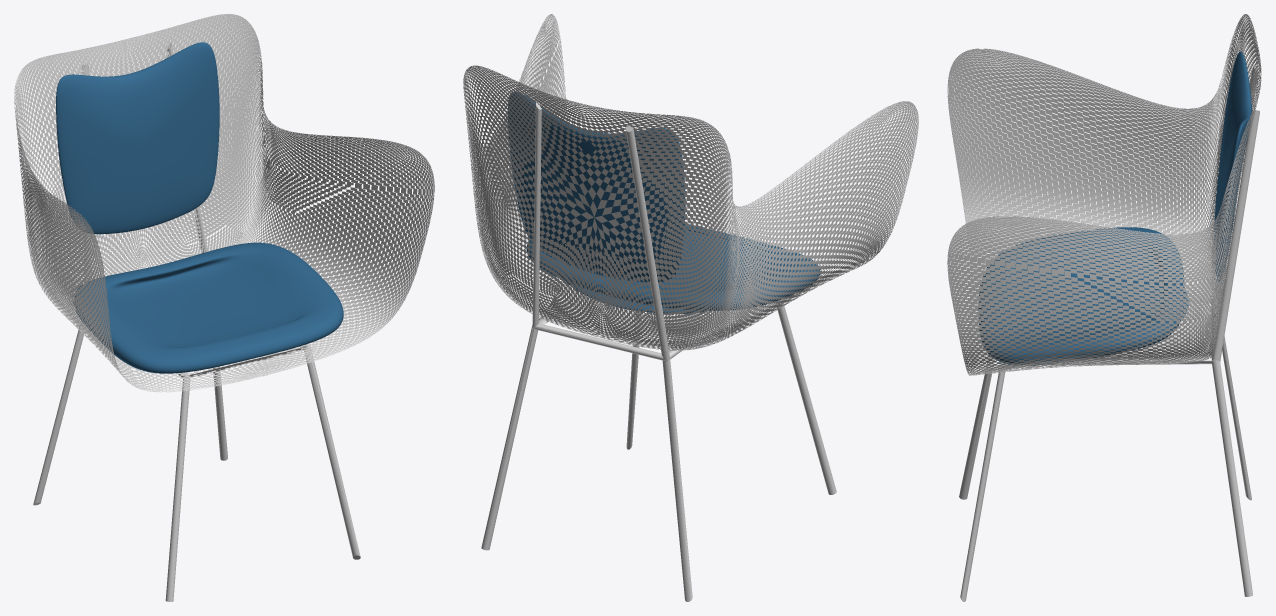
Rendered from chair_1.glb.
3 views of the same model, side by side, from view 1: azimuth 30°, elevation 25°; view 2: azimuth 150°, elevation 25°; view 3: azimuth 270°, elevation 25° (orthographic). The views are drawn at different scales.
Visible parts, largest first — view 1: Holes Part_1, Back Leaning cushion_0, sitting cushion_3, Pipes_2; view 2: Holes Part_1, Back Leaning cushion_0, Pipes_2, sitting cushion_3; view 3: Holes Part_1, sitting cushion_3, Pipes_2, Back Leaning cushion_0.
Boxes of the visible parts, box(x1,y1,x2,y2) form: Holes Part_1: box(14, 14, 434, 392); Back Leaning cushion_0: box(56, 42, 219, 234); sitting cushion_3: box(73, 242, 343, 373); Pipes_2: box(33, 43, 360, 601); Holes Part_1: box(463, 14, 918, 350); Back Leaning cushion_0: box(508, 91, 685, 282); Pipes_2: box(481, 102, 836, 601); sitting cushion_3: box(526, 224, 820, 313); Holes Part_1: box(947, 14, 1261, 375); sitting cushion_3: box(978, 227, 1188, 365); Pipes_2: box(959, 65, 1259, 601); Back Leaning cushion_0: box(1214, 51, 1251, 281).
Bounding box in the file's own units: 1.06 × 1.37 × 0.8028.
